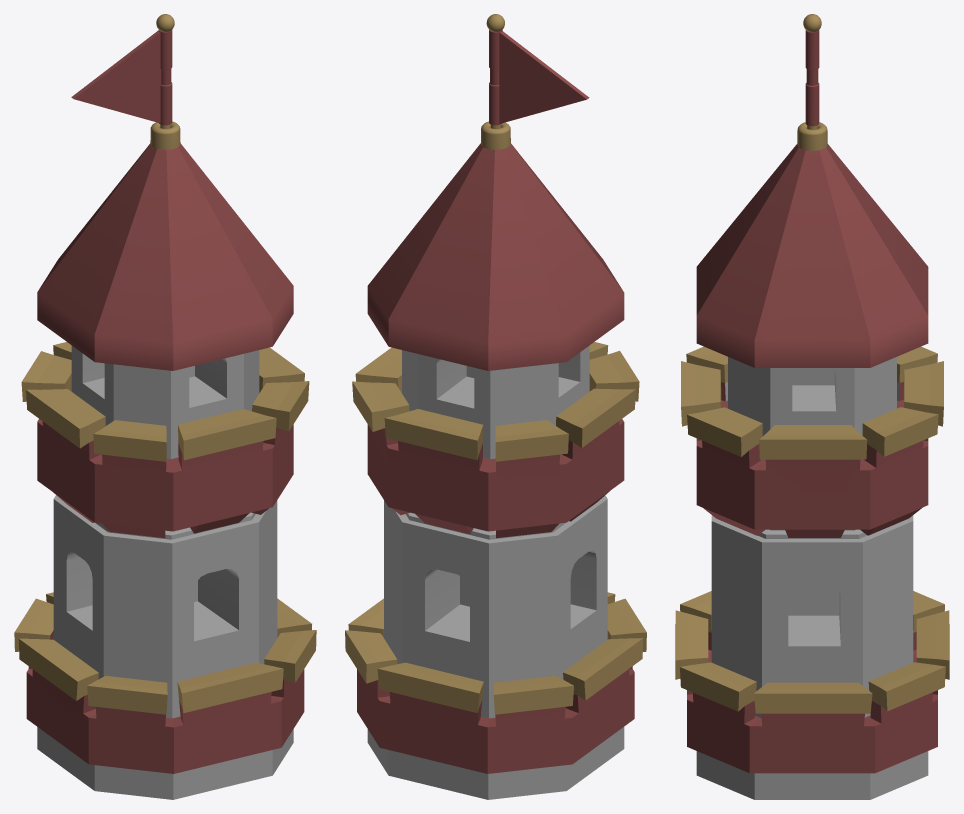
Rendered from Tower.fbx.
The picture shows the model from 3 angles, left to right: view 1: azimuth 30°, elevation 25°; view 2: azimuth 150°, elevation 25°; view 3: azimuth 270°, elevation 25°; orthographic projection.
Visible parts, largest first — view 1: Tower_Prefab; view 2: Tower_Prefab; view 3: Tower_Prefab.
Part boxes in pixels (bbox=[...]): Tower_Prefab: bbox=[14, 14, 316, 799]; Tower_Prefab: bbox=[345, 14, 646, 799]; Tower_Prefab: bbox=[675, 14, 949, 799].
Size of the model in its own units: 0.0237 by 0.0701 by 0.0237.
